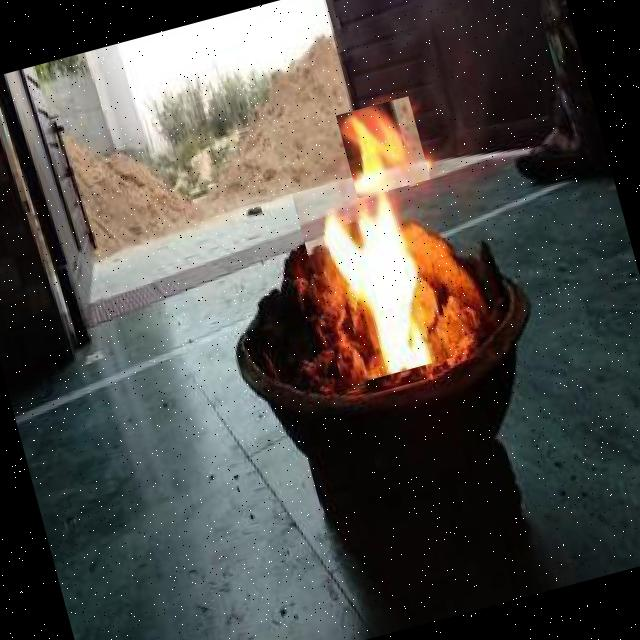fire: (291, 163, 455, 386), (336, 96, 430, 198)
